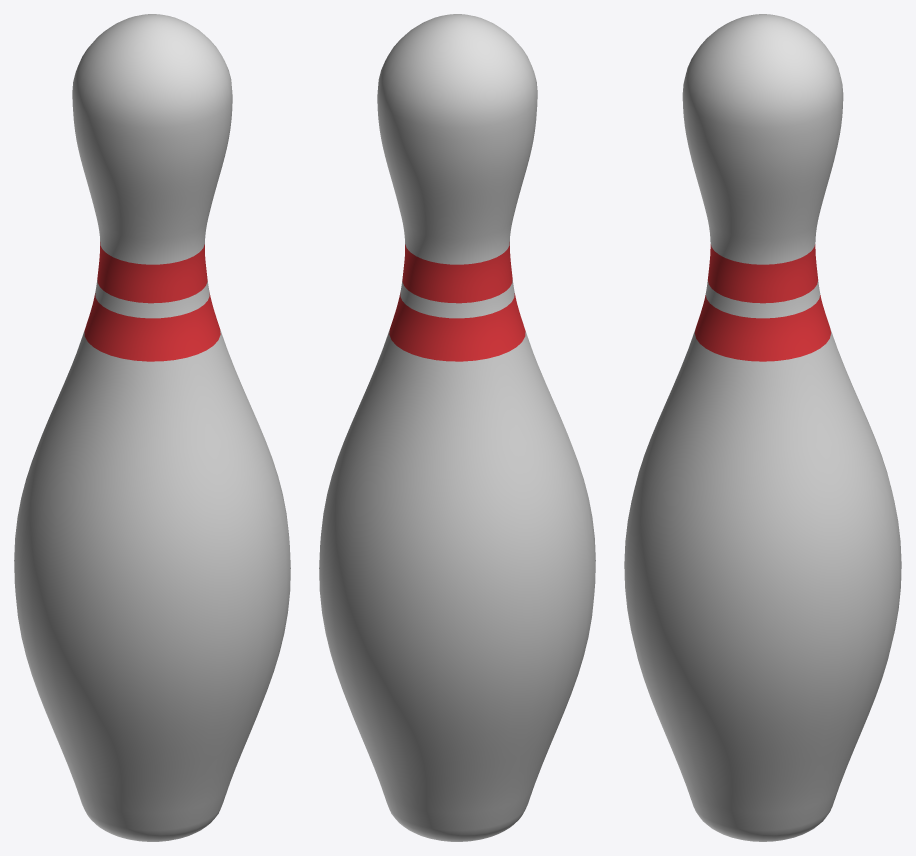
Rendered from bowling-pin.glb.
3 views of the same model, side by side, from view 1: azimuth 30°, elevation 25°; view 2: azimuth 150°, elevation 25°; view 3: azimuth 270°, elevation 25° (orthographic).
Parts seen in each view (by area): view 1: Bowling Pin 1; view 2: Bowling Pin 1; view 3: Bowling Pin 1.
Boxes of the visible parts, bbox=[...] form: Bowling Pin 1: bbox=[14, 14, 290, 841]; Bowling Pin 1: bbox=[319, 14, 595, 841]; Bowling Pin 1: bbox=[624, 14, 901, 841].
Size of the model in its own units: 0.1182 by 0.38 by 0.1182.
